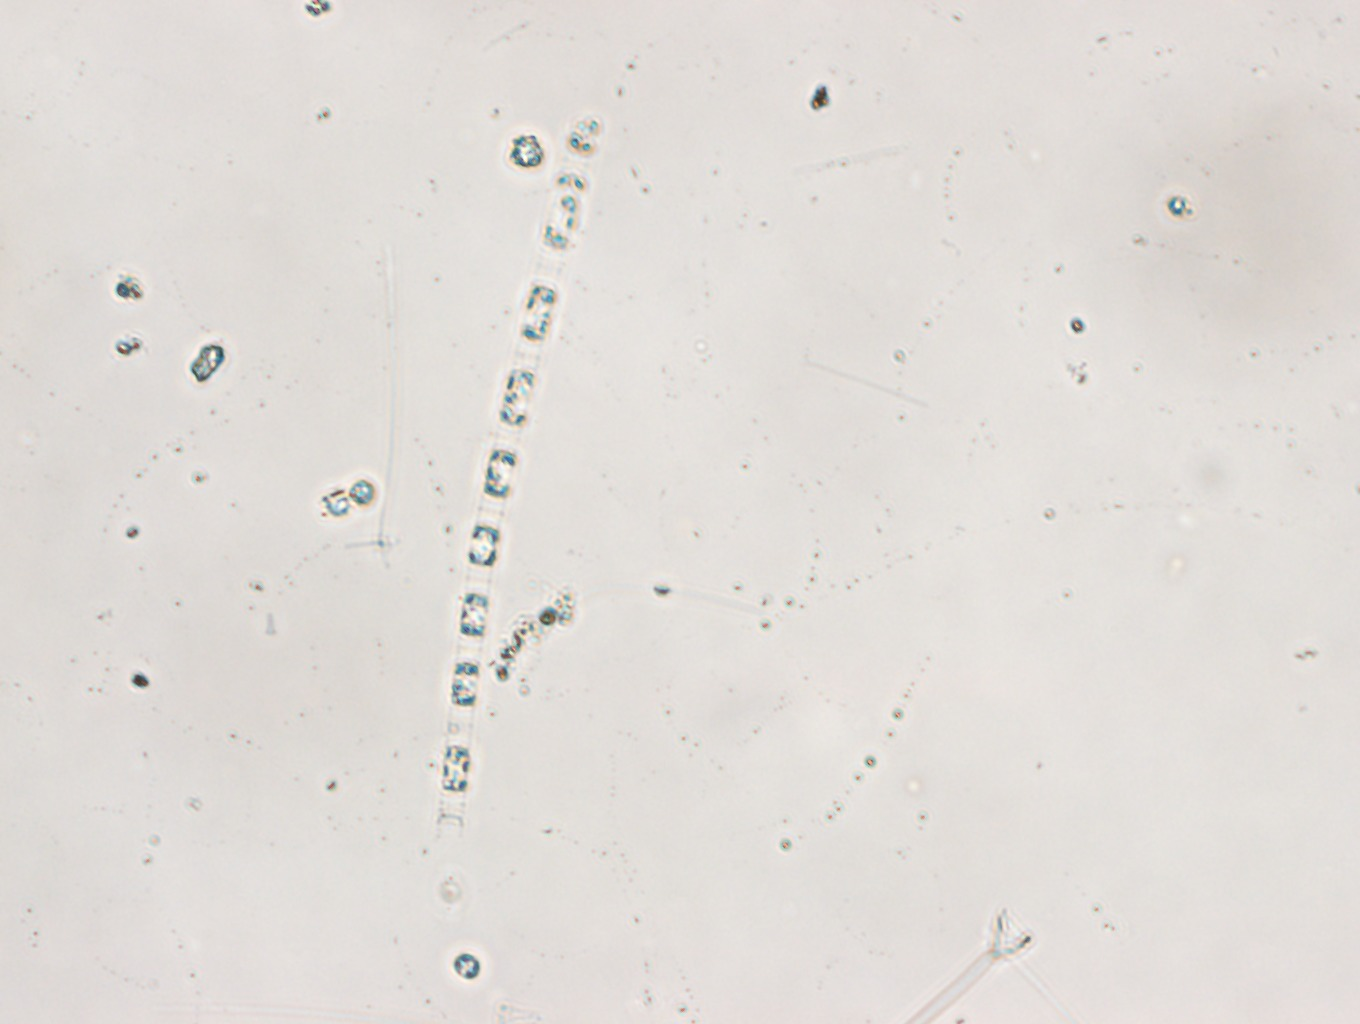skeletonema: (435, 114, 599, 840)
